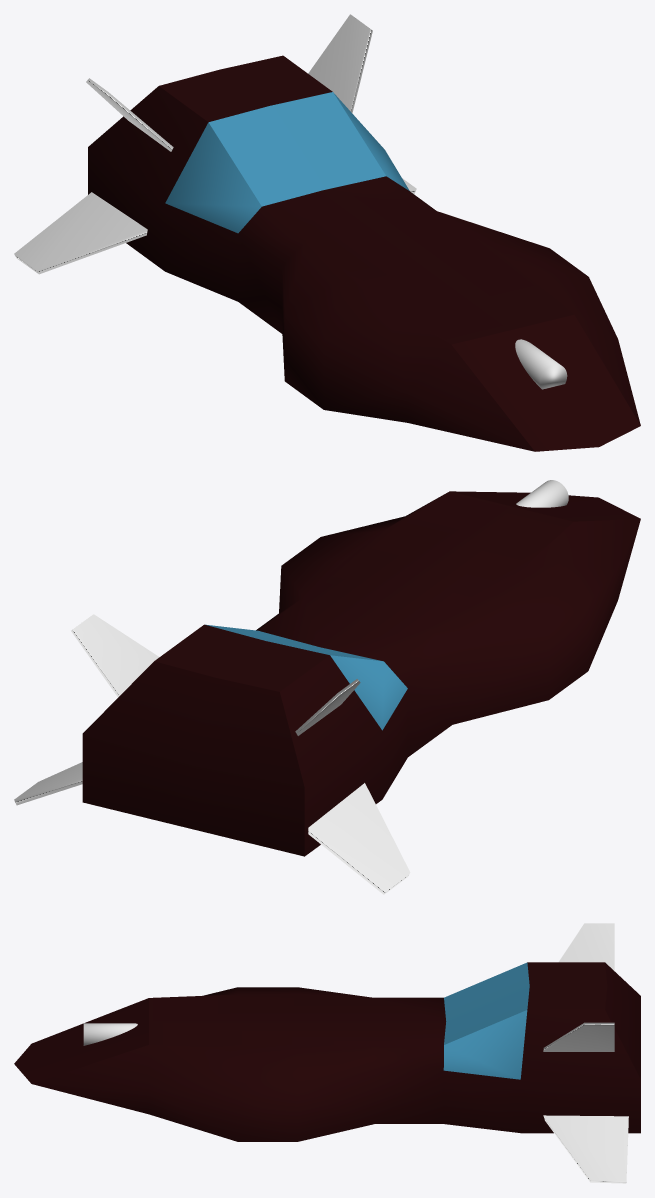
Rendered from mothership.fbx.
3 views of the same model, one above another, from view 1: azimuth 30°, elevation 25°; view 2: azimuth 150°, elevation 25°; view 3: azimuth 270°, elevation 25° (orthographic). The views are drawn at different scales.
Visible parts, largest first — view 1: Cube, Cube.004, Cube.001, Cylinder.001, Cube.002; view 2: Cube, Cube.004, Cube.001, Cube.003, Cylinder.001, Cube.002; view 3: Cube, Cube.003, Cube.002, Cube.001, Cylinder.001.
Part boxes in pixels (x1,y1,x2,y2): Cube: (88, 55, 640, 451); Cube.004: (14, 192, 147, 274); Cube.001: (308, 14, 372, 113); Cylinder.001: (515, 339, 567, 389); Cube.002: (86, 78, 173, 151); Cube: (82, 491, 640, 856); Cube.004: (308, 783, 410, 894); Cube.001: (71, 614, 159, 697); Cube.003: (14, 762, 82, 805); Cylinder.001: (516, 480, 568, 507); Cube.002: (295, 679, 360, 735); Cube: (14, 962, 640, 1141); Cube.003: (543, 1115, 628, 1183); Cube.002: (559, 923, 614, 970); Cube.001: (543, 1022, 614, 1051); Cylinder.001: (83, 1023, 137, 1045).
Size of the model in its own units: 374 by 173 by 692.
